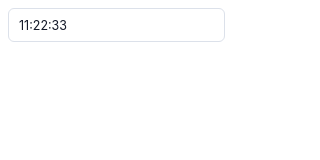
Test case: TimeField › вводит секунды, сохраняет неполную строку и сбрасывает валидное значение только один раз
This screenshot has width=320, height=160.
Replace the text in the field named "Время" with "23595" at x=116, y=25, box [17, 8, 216, 42]
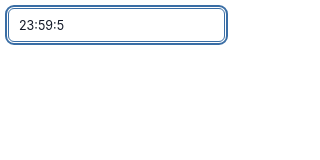
Check: the field named "Время" holds "23:59:5"
Type "9" into the field named "Время" at x=116, y=25, box [17, 8, 216, 42]
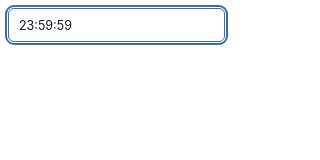
Check: the field named "Время" holds "23:59:59", box [17, 8, 216, 42]
